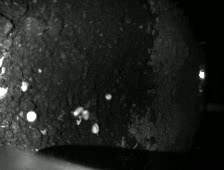corn: (23, 108, 40, 123), (70, 104, 86, 118), (17, 79, 31, 93), (79, 107, 92, 122), (72, 112, 85, 127), (89, 121, 102, 136), (104, 90, 113, 102)
